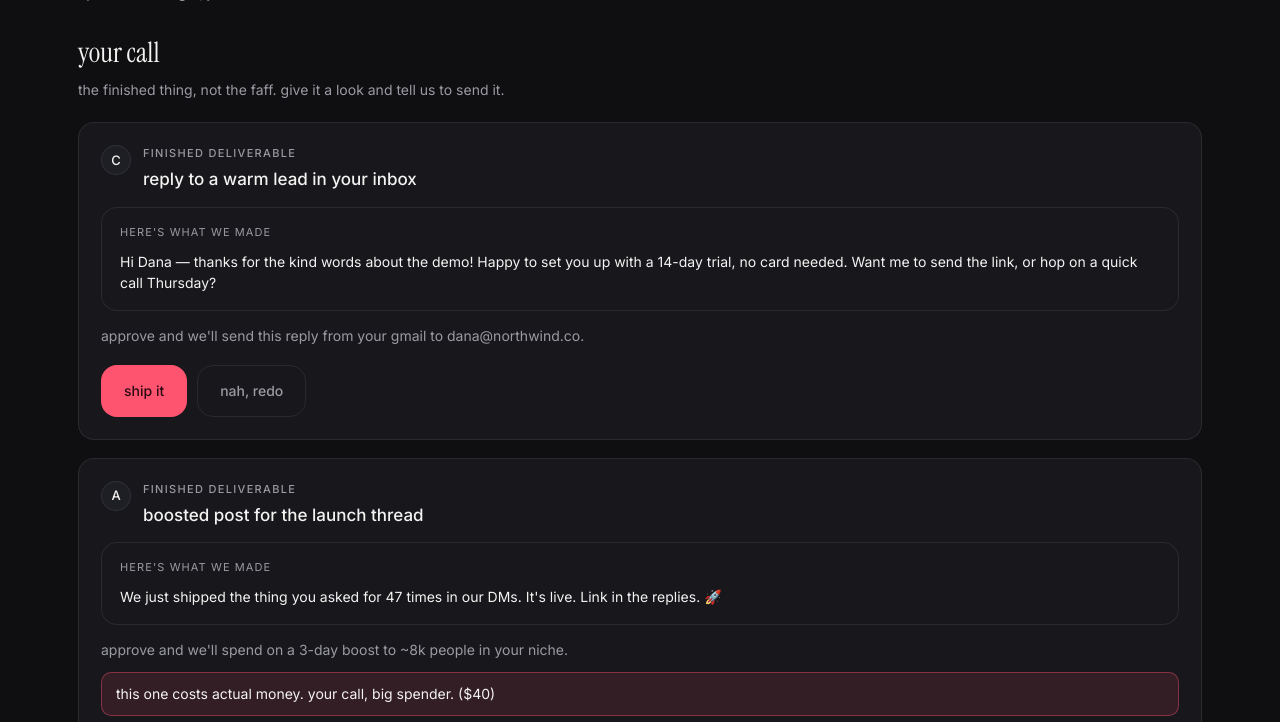
Scenario: EverydayShell — approval queue is a ship decision (#572/#574/#632) › keeps the card visible and shows failure when the approval API rejects (#1182)
(page scrolled)
Click the button "ship it" below "reply to a warm lead in your inbox": point(144, 391) [101,365,187,416]
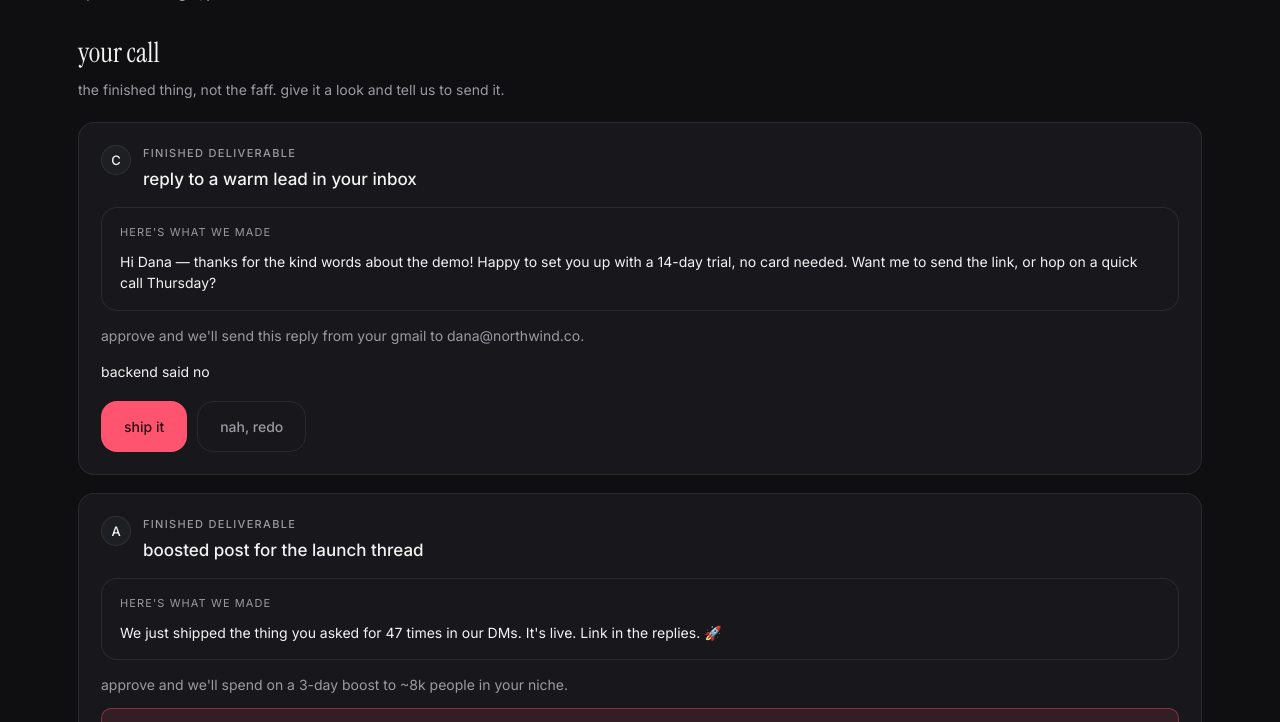
Expected: the heading "reply to a warm lead in your inbox" is shown, [143,166,417,193]
Expected: the message reads "backend said no", [101,363,210,380]
